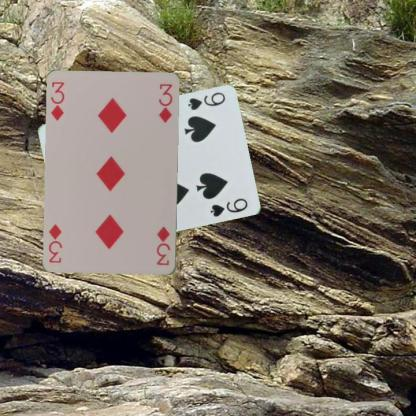3d: (48, 79, 66, 122), (154, 224, 172, 266)
9s: (185, 90, 226, 112)
